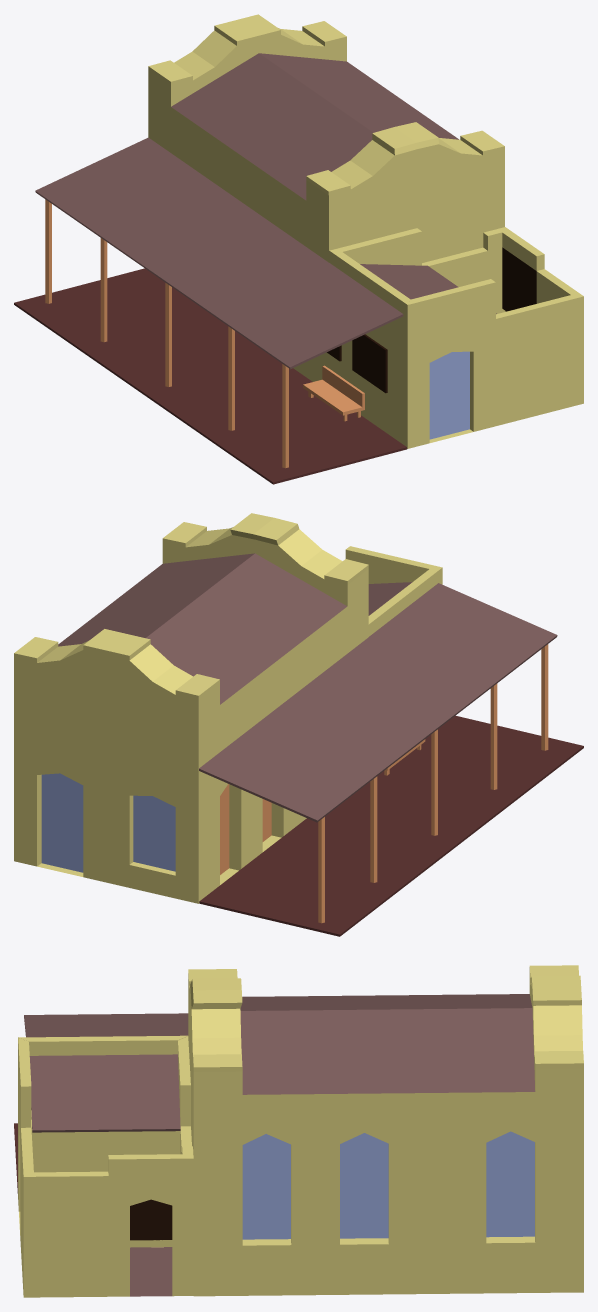
Rendered from trainEstacion.gltf.
The picture shows the model from 3 angles, top to bottom: view 1: azimuth 30°, elevation 25°; view 2: azimuth 150°, elevation 25°; view 3: azimuth 270°, elevation 25°; orthographic projection. The views are drawn at different scales.
Parts seen in each view (by area): view 1: EstructuraEstacion, EstructuraEntrada, Techo 3, Piso, Techo2, Banco, Pizarra2, Pilar4, Pilar5, Pilar2, Pilar3, Pilar1; view 2: EstructuraEstacion, Techo 3, Piso, EstructuraEntrada, Pilar4, Pilar1, Pilar2, Techo2, Pilar3, Pilar5; view 3: EstructuraEstacion, EstructuraEntrada, Techo2, Techo 3.
Boxes of the visible parts, x1=… form: EstructuraEstacion: x1=148, y1=14, x2=504, y2=381; EstructuraEntrada: x1=329, y1=227, x2=583, y2=448; Techo 3: x1=35, y1=137, x2=403, y2=369; Piso: x1=14, y1=268, x2=406, y2=484; Techo2: x1=360, y1=264, x2=496, y2=313; Banco: x1=303, y1=365, x2=364, y2=421; Pizarra2: x1=352, y1=334, x2=387, y2=393; Pilar4: x1=100, y1=238, x2=107, y2=342; Pilar5: x1=45, y1=199, x2=51, y2=303; Pilar2: x1=228, y1=326, x2=234, y2=430; Pilar3: x1=165, y1=283, x2=171, y2=386; Pilar1: x1=282, y1=364, x2=288, y2=468; EstructuraEstacion: x1=14, y1=513, x2=368, y2=903; Techo 3: x1=199, y1=583, x2=557, y2=822; Piso: x1=199, y1=715, x2=583, y2=936; EstructuraEntrada: x1=345, y1=546, x2=442, y2=636; Pilar4: x1=370, y1=776, x2=377, y2=882; Pilar1: x1=541, y1=644, x2=548, y2=750; Pilar2: x1=490, y1=683, x2=497, y2=789; Techo2: x1=368, y1=582, x2=412, y2=615; Pilar3: x1=431, y1=729, x2=437, y2=835; Pilar5: x1=318, y1=817, x2=324, y2=923; EstructuraEstacion: x1=188, y1=965, x2=583, y2=1296; EstructuraEntrada: x1=18, y1=1035, x2=193, y2=1297; Techo2: x1=29, y1=1054, x2=180, y2=1132; Techo 3: x1=24, y1=1013, x2=188, y2=1037.
Bounding box in the file's own units: 5.1 × 3.43 × 6.87.
